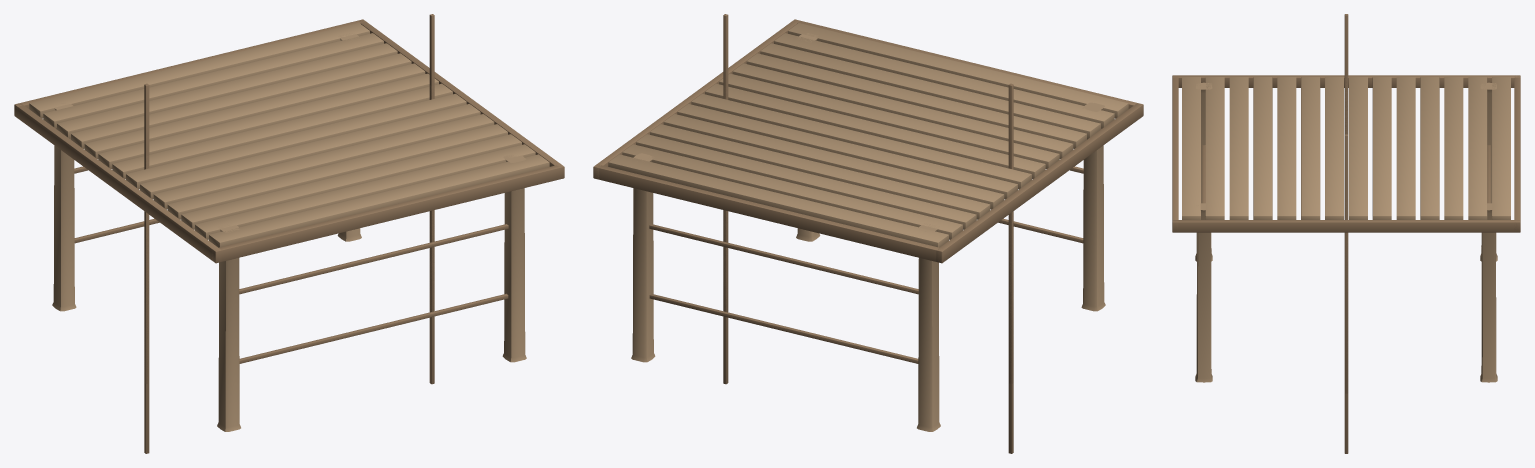
Rendered from struct_watchtower.glb.
3 renders of one model, left to right at view 1: azimuth 30°, elevation 25°; view 2: azimuth 150°, elevation 25°; view 3: azimuth 270°, elevation 25°, orthographic. The views are drawn at different scales.
Parts seen in each view (by area): view 1: struct_watchtower; view 2: struct_watchtower; view 3: struct_watchtower.
Part boxes in pixels (box(x1,y1,x2,y2)): struct_watchtower: box(14, 14, 564, 453); struct_watchtower: box(593, 14, 1143, 453); struct_watchtower: box(1172, 14, 1520, 453).
Size of what is drawn, in the model's own units: 11 by 11.1 by 11.
